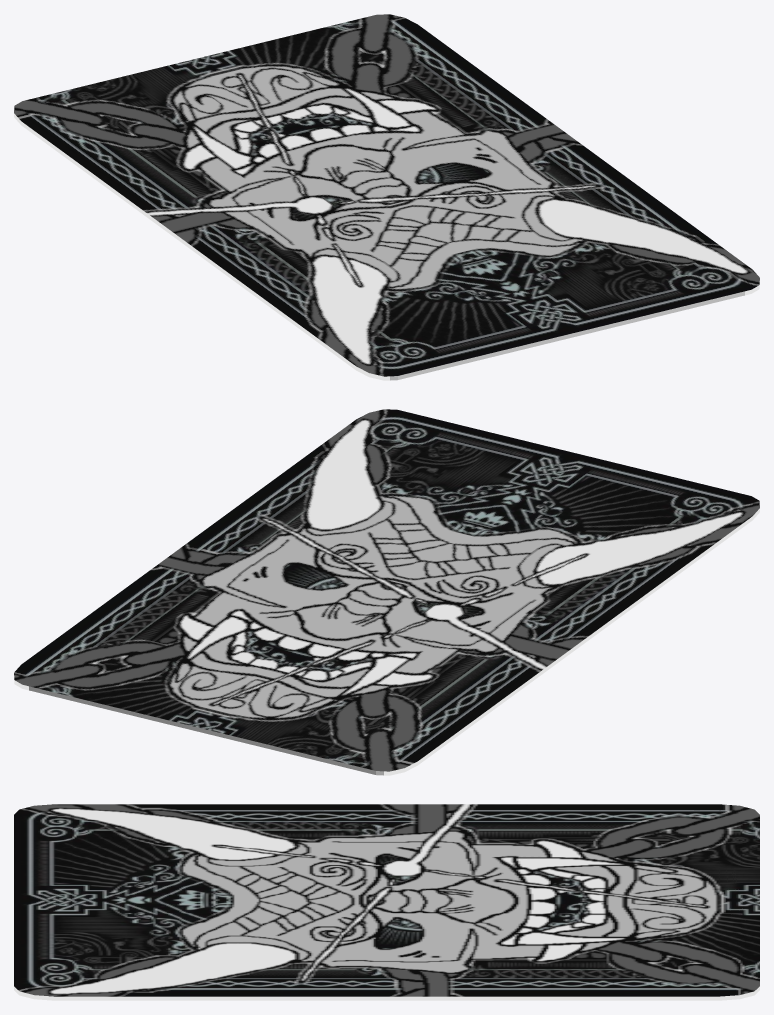
File: WheelOfFortune- Copy.fbx
3 renders of one model, top to bottom at view 1: azimuth 30°, elevation 25°; view 2: azimuth 150°, elevation 25°; view 3: azimuth 270°, elevation 25°, orthographic.
Parts seen in each view (by area): view 1: Plane; view 2: Plane; view 3: Plane.
Boxes of the visible parts, x1,y1,x2,y2 form: Plane: (14,14,759,380); Plane: (14,409,759,775); Plane: (14,804,759,1000).
Size of the model in its own units: 184 by 1.84 by 301.
2 materials, 2 textured.
